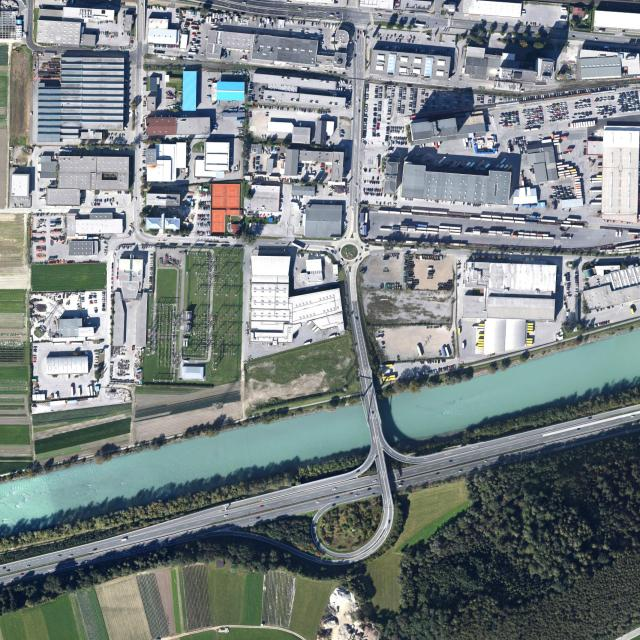large-vehicle: (417, 345, 423, 357), (59, 149, 72, 153), (445, 347, 450, 357), (442, 348, 447, 358), (415, 23, 425, 27), (290, 201, 298, 206), (77, 387, 81, 397), (567, 218, 580, 221), (472, 326, 484, 329), (314, 327, 320, 333), (87, 386, 90, 396), (312, 326, 318, 331), (329, 335, 336, 339), (212, 25, 219, 29), (188, 52, 197, 55), (307, 321, 312, 326), (121, 538, 127, 542), (71, 385, 73, 396), (39, 199, 46, 202), (304, 342, 311, 345), (563, 304, 567, 309), (561, 237, 571, 239), (258, 23, 262, 28), (462, 343, 465, 349), (206, 17, 209, 23), (235, 16, 238, 22), (212, 13, 215, 19), (192, 25, 200, 27), (301, 68, 309, 70), (330, 24, 333, 29), (333, 24, 336, 29), (24, 33, 27, 38), (191, 47, 196, 50), (217, 14, 220, 19), (309, 168, 312, 173), (220, 14, 223, 19), (2, 567, 7, 570), (192, 29, 199, 31), (209, 16, 211, 23), (448, 201, 451, 205), (192, 27, 198, 29), (186, 20, 192, 22), (187, 58, 193, 60), (183, 360, 189, 362), (294, 196, 297, 200), (227, 16, 230, 20), (241, 58, 247, 60), (372, 192, 375, 196), (376, 188, 379, 192), (363, 187, 366, 191), (330, 251, 334, 254), (20, 573, 24, 576), (316, 501, 320, 504), (224, 514, 228, 517), (375, 201, 378, 205), (247, 20, 249, 25), (41, 197, 46, 199), (190, 45, 195, 47), (230, 19, 232, 24), (300, 254, 302, 259), (298, 196, 300, 201), (271, 147, 273, 152), (211, 24, 216, 26), (242, 2, 247, 4), (286, 1, 291, 3), (32, 379, 37, 381), (343, 81, 346, 84), (338, 81, 341, 84), (340, 81, 343, 84), (379, 189, 382, 192), (204, 218, 207, 221), (357, 30, 360, 33), (201, 218, 204, 221), (241, 20, 243, 24), (330, 15, 334, 17), (265, 18, 267, 22), (509, 253, 513, 255), (31, 112, 33, 116), (341, 88, 343, 92), (375, 192, 377, 196), (256, 161, 260, 163), (256, 157, 260, 159), (375, 188, 377, 192), (203, 231, 205, 235), (197, 230, 199, 234), (208, 214, 210, 218), (204, 224, 206, 228), (366, 180, 368, 184), (364, 180, 366, 184), (372, 180, 374, 184), (366, 188, 368, 192), (295, 268, 297, 272), (57, 555, 61, 557), (93, 549, 97, 551), (355, 200, 357, 204), (575, 284, 579, 286), (574, 270, 578, 272), (574, 268, 578, 270), (635, 99, 639, 101), (631, 101, 635, 103), (193, 44, 199, 45), (225, 14, 227, 17), (336, 88, 338, 91), (264, 177, 266, 180), (205, 224, 207, 227), (201, 223, 203, 226), (374, 181, 376, 184), (215, 19, 217, 22), (363, 32, 364, 37), (242, 23, 246, 24), (243, 19, 247, 20), (243, 20, 247, 21), (239, 21, 240, 25), (558, 274, 559, 278), (192, 50, 196, 51), (121, 213, 125, 214), (225, 18, 226, 22), (372, 188, 373, 192), (377, 14, 381, 15), (378, 16, 382, 17), (575, 290, 579, 291), (575, 276, 579, 277), (575, 274, 579, 275), (575, 272, 579, 273), (631, 100, 635, 101), (243, 21, 246, 22), (339, 88, 340, 91), (267, 342, 268, 345)
small-vehicle: (363, 392, 387, 451), (141, 196, 145, 200), (349, 492, 354, 495), (400, 480, 405, 483), (454, 94, 459, 97), (26, 565, 31, 568), (259, 505, 264, 508), (588, 417, 593, 420), (371, 493, 376, 496), (355, 494, 360, 497), (628, 110, 633, 113), (6, 569, 11, 572), (332, 503, 336, 506), (378, 169, 381, 173), (248, 94, 252, 97), (262, 21, 265, 25), (303, 21, 306, 25), (316, 253, 319, 257), (444, 367, 447, 371), (449, 460, 453, 463), (399, 484, 403, 487), (389, 136, 392, 140), (320, 41, 324, 44), (291, 21, 294, 25), (363, 128, 367, 131), (300, 21, 303, 25), (322, 23, 325, 27), (341, 259, 344, 263), (359, 257, 363, 260), (259, 176, 262, 180), (325, 249, 329, 252), (264, 150, 267, 154), (286, 179, 289, 183), (327, 24, 330, 28), (13, 204, 16, 208), (150, 245, 153, 249), (94, 307, 98, 310), (528, 170, 532, 173), (597, 323, 600, 327), (574, 90, 577, 94), (492, 97, 496, 100), (492, 99, 496, 102), (488, 96, 492, 99), (154, 6, 157, 10), (577, 428, 581, 431), (373, 107, 378, 109), (367, 488, 372, 490), (564, 194, 569, 196), (256, 517, 261, 519), (298, 166, 303, 168), (339, 247, 341, 252), (451, 41, 456, 43), (317, 30, 322, 32), (193, 36, 198, 38), (33, 347, 38, 349), (94, 363, 99, 365), (88, 297, 93, 299), (560, 119, 565, 121), (630, 415, 635, 417), (530, 117, 535, 119), (411, 198, 414, 201), (207, 219, 210, 222), (459, 96, 462, 99), (441, 201, 444, 204), (552, 186, 555, 189), (399, 137, 402, 140), (397, 137, 400, 140), (412, 110, 415, 113), (122, 135, 125, 138), (154, 44, 157, 47), (88, 322, 91, 325), (142, 201, 145, 204), (148, 246, 151, 249), (143, 246, 146, 249), (127, 246, 130, 249), (123, 246, 126, 249), (301, 109, 304, 112), (310, 110, 313, 113), (287, 107, 290, 110), (273, 106, 276, 109), (363, 126, 366, 129), (256, 167, 259, 170), (262, 214, 265, 217), (271, 106, 274, 109), (298, 21, 301, 24), (365, 94, 368, 97), (145, 246, 148, 249), (141, 246, 144, 249), (112, 134, 115, 137), (123, 191, 126, 194), (436, 472, 439, 475), (603, 322, 606, 325), (396, 141, 399, 144), (108, 32, 111, 35), (590, 111, 593, 114), (627, 94, 630, 97), (618, 93, 621, 96), (374, 113, 378, 115), (370, 180, 372, 184), (377, 176, 379, 180), (437, 200, 439, 204), (374, 109, 378, 111), (388, 102, 392, 104), (388, 103, 392, 105), (392, 90, 396, 92), (378, 105, 382, 107), (378, 102, 382, 104), (278, 100, 282, 102), (329, 71, 333, 73), (208, 231, 210, 235), (312, 22, 314, 26), (208, 224, 210, 228), (430, 360, 432, 364), (432, 360, 434, 364), (366, 245, 370, 247), (383, 202, 385, 206), (439, 368, 441, 372), (417, 373, 419, 377), (373, 480, 377, 482), (361, 246, 363, 250), (403, 141, 405, 145), (433, 90, 437, 92), (458, 99, 462, 101), (567, 285, 571, 287), (420, 111, 424, 113), (442, 104, 446, 106), (443, 99, 447, 101), (447, 94, 451, 96), (454, 102, 458, 104), (454, 98, 458, 100), (567, 282, 571, 284), (564, 192, 568, 194), (563, 187, 567, 189), (560, 191, 564, 193), (560, 198, 564, 200), (554, 197, 558, 199), (435, 105, 439, 107), (397, 107, 401, 109), (397, 105, 401, 107), (397, 103, 401, 105), (399, 93, 403, 95), (399, 87, 403, 89), (402, 97, 406, 99), (410, 92, 414, 94), (301, 29, 305, 31), (201, 231, 203, 235), (206, 231, 208, 235), (197, 214, 199, 218), (197, 219, 201, 221), (149, 5, 151, 9), (164, 7, 166, 11), (197, 32, 201, 34), (184, 29, 188, 31), (176, 9, 180, 11), (102, 292, 106, 294), (33, 359, 37, 361), (69, 555, 73, 557), (33, 355, 37, 357), (19, 204, 21, 208), (107, 198, 109, 202), (304, 109, 306, 113), (323, 110, 325, 114), (357, 35, 359, 39), (298, 8, 302, 10), (305, 33, 309, 35), (306, 29, 310, 31), (299, 164, 303, 166), (332, 488, 336, 490), (336, 496, 340, 498), (259, 167, 263, 169), (261, 176, 263, 180), (259, 165, 263, 167), (267, 177, 269, 181), (293, 179, 295, 183), (291, 179, 293, 183), (289, 179, 291, 183), (283, 179, 285, 183), (393, 204, 397, 206), (364, 117, 368, 119), (388, 100, 392, 102), (359, 253, 361, 257), (363, 123, 367, 125), (217, 19, 219, 23), (533, 22, 535, 26), (318, 36, 322, 38), (318, 34, 322, 36), (325, 23, 327, 27), (365, 97, 369, 99), (399, 39, 401, 43), (94, 199, 96, 203), (176, 13, 180, 15), (175, 15, 179, 17), (197, 41, 201, 43), (104, 199, 106, 203), (100, 199, 102, 203), (33, 349, 37, 351), (33, 357, 37, 359), (93, 300, 97, 302), (102, 303, 106, 305), (102, 294, 106, 296), (110, 303, 112, 307), (519, 151, 521, 155), (555, 109, 559, 111), (567, 189, 571, 191), (512, 119, 516, 121), (552, 111, 556, 113), (609, 114, 613, 116), (611, 98, 615, 100), (574, 108, 578, 110), (583, 102, 587, 104), (556, 114, 560, 116), (553, 116, 557, 118), (570, 196, 574, 198), (448, 366, 450, 370), (435, 369, 437, 373), (442, 359, 444, 363), (550, 195, 554, 197), (484, 461, 488, 463), (459, 470, 463, 472), (452, 365, 454, 369), (552, 190, 556, 192), (595, 107, 599, 109), (575, 103, 579, 105), (552, 104, 556, 106), (503, 98, 507, 100), (400, 34, 402, 38), (503, 100, 507, 102), (554, 93, 556, 97), (539, 95, 541, 99), (541, 95, 543, 99), (509, 125, 513, 127), (480, 100, 484, 102), (392, 87, 396, 89), (394, 127, 396, 131), (396, 127, 398, 131), (469, 95, 473, 97), (403, 88, 407, 90), (435, 102, 439, 104), (432, 96, 436, 98), (453, 107, 457, 109), (480, 98, 484, 100), (488, 102, 492, 104), (183, 57, 187, 59), (530, 111, 534, 113), (531, 113, 535, 115), (532, 115, 536, 117), (527, 119, 531, 121), (539, 108, 543, 110), (539, 110, 543, 112), (534, 111, 538, 113), (539, 112, 543, 114), (529, 124, 533, 126), (507, 116, 511, 118), (512, 121, 516, 123), (511, 116, 515, 118), (512, 117, 516, 119), (535, 116, 539, 118), (535, 118, 539, 120), (565, 116, 569, 118), (559, 108, 563, 110), (561, 117, 565, 119), (555, 107, 559, 109), (564, 109, 568, 111), (564, 106, 568, 108), (536, 123, 540, 125), (531, 120, 535, 122), (535, 120, 539, 122), (540, 119, 544, 121), (540, 121, 544, 123), (556, 103, 560, 105), (531, 96, 533, 100), (488, 100, 492, 102), (523, 136, 525, 140), (524, 140, 526, 144), (560, 92, 562, 96), (500, 121, 504, 123), (499, 117, 503, 119), (499, 122, 503, 124), (505, 125, 509, 127), (508, 123, 512, 125), (610, 86, 612, 90), (577, 90, 579, 94), (624, 111, 628, 113), (617, 105, 621, 107), (619, 103, 623, 105), (575, 291, 579, 293), (636, 104, 640, 106), (636, 106, 640, 108), (629, 107, 633, 109), (575, 282, 579, 284), (158, 6, 160, 10), (161, 6, 163, 10), (575, 279, 579, 281), (161, 44, 163, 48), (162, 44, 164, 48), (166, 44, 168, 48), (111, 32, 113, 36), (575, 277, 579, 279), (607, 97, 611, 99), (602, 99, 606, 101), (606, 99, 610, 101), (598, 100, 602, 102), (556, 120, 560, 122), (583, 105, 587, 107), (587, 99, 591, 101), (587, 101, 591, 103), (579, 102, 583, 104), (574, 106, 578, 108), (634, 91, 638, 93), (619, 95, 623, 97), (623, 97, 627, 99), (630, 91, 634, 93), (603, 116, 607, 118), (377, 135, 380, 137), (373, 119, 376, 121), (377, 133, 380, 135), (377, 128, 380, 130), (377, 126, 380, 128), (377, 124, 380, 126), (378, 122, 381, 124), (378, 119, 381, 121), (373, 128, 376, 130), (376, 181, 378, 184), (378, 181, 380, 184), (369, 169, 371, 172), (463, 202, 465, 205), (373, 135, 376, 137), (391, 94, 394, 96), (388, 110, 391, 112), (387, 118, 390, 120), (371, 142, 373, 145), (382, 142, 384, 145), (390, 141, 392, 144), (393, 141, 395, 144), (388, 86, 391, 88), (378, 108, 381, 110), (375, 90, 378, 92), (378, 107, 381, 109), (388, 88, 391, 90), (379, 89, 382, 91), (390, 194, 392, 197), (384, 194, 386, 197), (379, 193, 381, 196), (343, 72, 346, 74), (334, 72, 337, 74), (298, 172, 301, 174), (246, 244, 249, 246), (272, 19, 274, 22), (269, 22, 271, 25), (313, 35, 316, 37), (271, 26, 273, 29), (337, 13, 340, 15), (452, 345, 454, 348), (423, 361, 425, 364), (426, 361, 428, 364), (435, 360, 437, 363), (438, 360, 440, 363), (451, 336, 453, 339), (379, 202, 381, 205), (371, 193, 373, 196), (420, 362, 422, 365), (433, 370, 435, 373), (423, 372, 425, 375), (419, 373, 421, 376), (372, 411, 374, 414), (388, 520, 390, 523), (466, 99, 469, 101), (567, 290, 570, 292), (567, 287, 570, 289), (432, 103, 435, 105), (436, 100, 439, 102), (443, 106, 446, 108), (443, 101, 446, 103), (444, 92, 447, 94), (454, 96, 457, 98), (447, 98, 450, 100), (455, 100, 458, 102), (564, 283, 566, 286), (564, 189, 567, 191), (559, 186, 562, 188), (555, 186, 558, 188), (569, 209, 571, 212), (539, 135, 542, 137), (515, 138, 517, 141), (562, 196, 565, 198), (556, 190, 559, 192), (554, 195, 557, 197), (550, 197, 553, 199), (553, 199, 556, 201), (432, 98, 435, 100), (405, 137, 407, 140), (399, 100, 402, 102), (398, 102, 401, 104), (399, 95, 402, 97), (400, 91, 403, 93), (401, 113, 404, 115), (387, 129, 390, 131), (425, 99, 428, 101), (401, 137, 403, 140), (393, 137, 395, 140), (385, 140, 388, 142), (396, 130, 398, 133), (387, 130, 390, 132), (402, 130, 404, 133), (400, 127, 402, 130), (392, 127, 394, 130), (391, 127, 393, 130), (401, 111, 404, 113), (414, 98, 417, 100), (421, 100, 424, 102), (431, 105, 434, 107), (411, 89, 414, 91), (410, 94, 413, 96), (410, 96, 413, 98), (410, 98, 413, 100), (414, 100, 417, 102), (413, 105, 416, 107), (410, 103, 413, 105), (409, 105, 412, 107), (409, 106, 412, 108), (412, 112, 415, 114), (409, 110, 412, 112), (292, 33, 295, 35), (201, 214, 203, 217), (199, 231, 201, 234), (199, 214, 201, 217), (206, 215, 208, 218), (202, 206, 204, 209), (206, 207, 208, 210), (197, 223, 199, 226), (128, 233, 130, 236), (45, 189, 47, 192), (204, 201, 206, 204), (127, 33, 129, 36), (107, 31, 109, 34), (144, 103, 147, 105), (111, 133, 113, 136), (104, 250, 107, 252), (104, 243, 107, 245), (151, 6, 153, 9), (193, 41, 196, 43), (192, 34, 195, 36), (168, 45, 170, 48), (172, 45, 174, 48), (178, 46, 180, 49), (143, 105, 146, 107), (40, 188, 42, 191), (102, 306, 105, 308), (81, 299, 84, 301), (112, 266, 114, 269), (90, 302, 93, 304), (33, 361, 36, 363), (94, 302, 97, 304), (95, 311, 98, 313), (93, 326, 96, 328), (149, 290, 152, 292), (110, 203, 112, 206), (118, 191, 120, 194), (129, 190, 131, 193), (135, 198, 137, 201), (150, 278, 153, 280), (149, 276, 152, 278), (150, 271, 153, 273), (150, 258, 153, 260), (118, 247, 120, 250), (121, 246, 123, 249), (114, 253, 116, 256), (309, 110, 311, 113), (298, 108, 300, 111), (307, 109, 309, 112), (313, 110, 315, 113), (318, 110, 320, 113), (325, 111, 327, 114), (256, 105, 258, 108), (254, 105, 256, 108), (258, 105, 260, 108), (279, 107, 281, 110), (260, 105, 262, 108), (267, 106, 269, 109), (277, 106, 279, 109), (363, 137, 366, 139), (364, 132, 367, 134), (288, 20, 290, 23), (355, 41, 357, 44), (325, 47, 327, 50), (315, 23, 317, 26), (349, 55, 352, 57), (354, 55, 356, 58), (250, 85, 253, 87), (250, 83, 253, 85), (255, 100, 258, 102), (251, 100, 254, 102), (259, 89, 261, 92), (262, 88, 265, 90), (364, 120, 367, 122), (264, 135, 266, 138), (355, 318, 357, 321), (268, 343, 270, 346), (271, 343, 273, 346), (262, 177, 264, 180), (253, 166, 255, 169), (253, 159, 255, 162), (297, 179, 299, 182), (295, 179, 297, 182), (323, 185, 325, 188), (368, 181, 370, 184), (367, 192, 369, 195), (368, 188, 370, 191), (363, 191, 365, 194), (356, 184, 358, 187), (267, 215, 269, 218), (519, 137, 521, 140), (351, 313, 353, 316), (394, 130, 396, 133), (392, 130, 394, 133), (375, 86, 378, 88), (380, 37, 382, 40), (387, 97, 390, 99), (379, 97, 382, 99), (364, 110, 367, 112), (366, 89, 369, 91), (366, 87, 369, 89), (112, 199, 114, 202), (150, 267, 153, 269), (96, 203, 98, 206), (111, 274, 113, 277), (111, 277, 113, 280), (94, 203, 96, 206), (98, 203, 100, 206), (130, 43, 133, 45), (106, 21, 108, 24), (114, 135, 116, 138), (111, 286, 113, 289), (82, 308, 85, 310), (90, 300, 93, 302), (102, 301, 105, 303), (407, 40, 409, 43), (198, 38, 201, 40), (523, 151, 525, 154), (512, 98, 514, 101), (508, 98, 510, 101), (521, 151, 523, 154), (525, 151, 527, 154), (567, 187, 570, 189), (611, 96, 614, 98), (578, 113, 581, 115), (586, 116, 589, 118), (553, 120, 556, 122), (552, 113, 555, 115), (569, 192, 572, 194), (594, 325, 597, 327), (442, 368, 444, 371), (441, 368, 443, 371), (450, 366, 452, 369), (444, 359, 446, 362), (608, 321, 610, 324), (557, 198, 560, 200), (604, 113, 607, 115), (409, 40, 411, 43), (633, 110, 636, 112), (620, 99, 623, 101), (620, 101, 623, 103), (582, 114, 585, 116), (535, 109, 538, 111), (598, 88, 600, 91), (573, 91, 575, 94), (601, 113, 604, 115), (412, 40, 414, 43), (413, 36, 415, 39), (499, 100, 502, 102), (510, 98, 512, 101), (516, 98, 518, 101), (535, 96, 537, 99), (537, 96, 539, 99), (549, 94, 551, 97), (508, 118, 511, 120), (403, 90, 406, 92), (403, 91, 406, 93), (403, 93, 406, 95), (426, 94, 429, 96), (425, 96, 428, 98), (447, 101, 450, 103), (447, 103, 450, 105), (447, 104, 450, 106), (447, 106, 450, 108), (477, 98, 480, 100), (521, 137, 523, 140), (531, 109, 534, 111), (528, 115, 531, 117), (512, 112, 515, 114), (512, 114, 515, 116), (516, 115, 519, 117), (516, 117, 519, 119), (523, 110, 526, 112), (527, 110, 530, 112), (526, 112, 529, 114), (561, 112, 564, 114), (560, 103, 563, 105), (561, 110, 564, 112), (562, 114, 565, 116), (563, 115, 566, 117), (558, 116, 561, 118), (558, 112, 561, 114), (565, 111, 568, 113), (564, 108, 567, 110), (564, 104, 567, 106), (549, 106, 552, 108), (548, 108, 551, 110), (532, 122, 535, 124), (508, 112, 511, 114), (529, 97, 531, 100), (514, 98, 516, 101), (520, 98, 522, 101), (523, 98, 525, 101), (527, 97, 529, 100), (533, 96, 535, 99), (545, 95, 547, 98), (547, 94, 549, 97), (556, 93, 558, 96), (558, 93, 560, 96), (492, 101, 495, 103), (522, 144, 524, 147), (516, 141, 518, 144), (519, 144, 521, 147), (520, 144, 522, 147), (525, 148, 527, 151), (477, 99, 480, 101), (478, 96, 481, 98), (480, 103, 483, 105), (569, 91, 571, 94), (502, 126, 505, 128), (516, 122, 519, 124), (505, 123, 508, 125), (501, 113, 504, 115), (619, 85, 621, 88), (615, 86, 617, 89), (608, 87, 610, 90), (606, 87, 608, 90), (600, 88, 602, 91), (581, 90, 583, 93), (556, 105, 559, 107), (174, 45, 176, 48), (622, 108, 625, 110), (624, 102, 627, 104), (540, 185, 543, 187), (624, 104, 627, 106), (628, 100, 631, 102), (624, 100, 627, 102), (629, 105, 632, 107), (576, 286, 579, 288), (103, 21, 105, 24), (101, 21, 103, 24), (99, 21, 101, 24), (112, 36, 114, 39), (112, 32, 114, 35), (102, 32, 104, 35), (100, 31, 102, 34), (600, 323, 602, 326), (572, 118, 575, 120), (600, 98, 603, 100), (582, 112, 585, 114), (599, 106, 602, 108), (603, 106, 606, 108), (586, 112, 589, 114), (555, 118, 558, 120), (549, 120, 552, 122), (585, 107, 588, 109), (609, 107, 612, 109), (586, 114, 589, 116), (619, 97, 622, 99), (631, 94, 634, 96), (635, 93, 638, 95), (598, 110, 601, 112), (632, 96, 635, 98), (636, 95, 639, 97), (622, 92, 625, 94), (627, 92, 630, 94), (584, 146, 587, 148), (613, 112, 616, 114), (613, 110, 616, 112), (609, 111, 612, 113), (609, 109, 612, 111), (605, 111, 608, 113), (601, 111, 604, 113), (602, 109, 605, 111), (183, 33, 188, 34), (175, 12, 180, 13), (33, 352, 38, 353), (578, 101, 583, 102), (538, 107, 543, 108), (535, 122, 540, 123), (377, 116, 381, 117), (467, 203, 469, 205), (405, 198, 407, 200), (373, 115, 377, 116), (387, 114, 391, 115), (392, 89, 396, 90), (373, 105, 377, 106), (378, 104, 382, 105), (380, 87, 382, 89), (310, 164, 312, 166), (312, 166, 316, 167), (289, 30, 293, 31), (452, 341, 454, 343), (390, 202, 391, 206), (399, 141, 400, 145), (560, 189, 562, 191), (564, 191, 568, 192), (559, 188, 563, 189), (566, 196, 570, 197), (556, 192, 560, 193), (398, 99, 402, 100), (397, 111, 401, 112), (386, 137, 388, 139), (398, 127, 400, 129), (415, 91, 417, 93), (415, 89, 417, 91), (421, 93, 425, 94), (420, 108, 424, 109), (410, 91, 414, 92), (412, 107, 416, 108), (199, 224, 201, 226), (199, 207, 201, 209), (200, 202, 202, 204), (202, 202, 204, 204), (129, 34, 131, 36), (105, 31, 106, 35), (121, 135, 123, 137), (102, 300, 106, 301), (102, 296, 106, 297), (112, 263, 114, 265), (102, 309, 106, 310), (95, 355, 99, 356), (95, 358, 99, 359), (111, 307, 112, 311), (117, 267, 118, 271), (116, 203, 118, 205), (150, 288, 152, 290), (148, 284, 152, 285), (149, 275, 153, 276), (150, 262, 154, 263), (126, 246, 128, 248), (248, 116, 252, 117), (265, 115, 269, 116), (318, 33, 322, 34), (365, 112, 367, 114), (312, 172, 316, 173), (365, 192, 367, 194), (517, 137, 518, 141), (365, 86, 369, 87), (366, 84, 370, 85), (531, 22, 532, 26), (535, 22, 536, 26), (149, 270, 153, 271), (150, 255, 154, 256), (111, 282, 113, 284), (130, 41, 134, 42), (98, 200, 100, 202), (80, 298, 84, 299), (93, 297, 97, 298), (89, 295, 93, 296), (538, 139, 542, 140), (583, 116, 585, 118), (523, 116, 527, 117), (398, 131, 400, 133), (390, 131, 392, 133), (480, 102, 484, 103), (505, 118, 507, 120), (522, 140, 523, 144), (552, 118, 554, 120), (531, 119, 535, 120), (539, 114, 543, 115), (536, 114, 538, 116), (522, 113, 526, 114), (539, 116, 543, 117), (565, 119, 569, 120), (559, 107, 563, 108), (556, 111, 560, 112), (516, 111, 518, 113), (563, 92, 564, 96), (585, 89, 586, 93), (626, 109, 628, 111), (633, 103, 635, 105), (628, 104, 632, 105), (637, 103, 639, 105), (575, 281, 579, 282), (176, 18, 180, 19), (108, 21, 110, 23), (141, 3, 142, 7), (165, 44, 166, 48), (602, 323, 604, 325), (627, 99, 631, 100), (595, 99, 599, 100), (603, 98, 607, 99), (612, 107, 616, 108), (587, 105, 591, 106), (549, 117, 553, 118), (579, 106, 583, 107), (583, 100, 587, 101), (627, 97, 631, 98), (606, 109, 608, 111), (597, 113, 601, 114), (373, 125, 376, 126), (373, 124, 376, 125), (373, 122, 376, 123), (374, 118, 377, 119), (373, 127, 376, 128), (373, 126, 376, 127), (408, 198, 409, 201), (410, 198, 411, 201), (373, 134, 376, 135), (388, 107, 391, 108), (388, 112, 391, 113), (387, 123, 390, 124), (395, 141, 396, 144), (375, 97, 378, 98), (375, 94, 378, 95), (375, 92, 378, 93), (378, 110, 381, 111), (379, 94, 382, 95), (324, 71, 327, 72), (377, 193, 378, 196), (388, 203, 389, 206), (406, 142, 407, 145), (444, 96, 447, 97), (443, 103, 446, 104), (454, 104, 457, 105), (558, 197, 561, 198), (557, 193, 560, 194), (561, 193, 564, 194), (558, 195, 561, 196), (552, 189, 555, 190), (397, 110, 400, 111), (397, 109, 400, 110), (387, 128, 390, 129), (400, 90, 403, 91), (403, 127, 404, 130), (402, 106, 405, 107), (422, 90, 425, 91), (414, 97, 417, 98), (414, 95, 417, 96), (414, 93, 417, 94), (422, 92, 425, 93), (420, 106, 423, 107), (411, 88, 414, 89), (413, 104, 416, 105), (321, 44, 324, 45), (204, 215, 205, 218), (141, 190, 142, 193), (207, 202, 208, 205), (144, 102, 147, 103), (99, 32, 100, 35), (197, 47, 200, 48), (104, 253, 107, 254), (193, 39, 196, 40), (176, 11, 179, 12), (137, 113, 138, 116), (94, 295, 97, 296), (102, 305, 105, 306), (102, 298, 105, 299), (93, 293, 96, 294), (102, 311, 105, 312), (81, 294, 84, 295), (112, 270, 113, 273), (143, 150, 146, 151), (97, 199, 98, 202), (110, 199, 111, 202), (117, 272, 118, 275), (126, 191, 127, 194), (128, 191, 129, 194), (150, 266, 153, 267), (359, 100, 360, 103), (359, 110, 360, 113), (282, 107, 283, 110), (262, 135, 263, 138), (249, 115, 252, 116), (249, 113, 252, 114), (266, 113, 269, 114), (263, 106, 264, 109), (270, 106, 271, 109), (363, 136, 366, 137), (337, 18, 340, 19), (286, 20, 287, 23), (250, 87, 253, 88), (250, 89, 253, 90), (261, 91, 264, 92), (282, 343, 283, 346), (258, 176, 259, 179), (259, 169, 262, 170), (259, 170, 262, 171), (335, 162, 338, 163), (518, 137, 519, 140), (373, 177, 374, 180), (364, 119, 367, 120), (388, 109, 391, 110), (379, 96, 382, 97), (375, 89, 378, 90), (91, 203, 92, 206), (150, 264, 153, 265), (111, 290, 112, 293), (111, 295, 112, 298), (111, 299, 112, 302), (95, 360, 98, 361), (86, 317, 89, 318), (81, 292, 84, 293), (396, 39, 397, 42), (525, 144, 526, 147), (568, 191, 571, 192), (570, 194, 573, 195), (595, 101, 598, 102), (560, 105, 563, 106), (546, 107, 549, 108), (553, 194, 556, 195), (447, 367, 448, 370), (606, 321, 607, 324), (609, 113, 612, 114), (587, 89, 588, 92), (578, 108, 581, 109), (553, 106, 556, 107), (396, 137, 397, 140), (386, 134, 389, 135), (520, 141, 521, 144), (447, 100, 450, 101), (177, 45, 178, 48), (526, 125, 529, 126), (516, 114, 519, 115), (505, 115, 508, 116), (526, 114, 529, 115), (516, 121, 519, 122), (564, 103, 567, 104), (552, 108, 555, 109), (547, 110, 550, 111), (533, 124, 536, 125), (525, 97, 526, 100), (492, 103, 495, 104), (543, 95, 544, 98), (505, 113, 508, 114), (518, 141, 519, 144), (519, 148, 520, 151), (521, 148, 522, 151), (513, 123, 516, 124), (571, 91, 572, 94), (517, 124, 520, 125), (508, 120, 511, 121), (504, 117, 507, 118), (612, 87, 613, 90), (603, 88, 604, 91), (597, 88, 598, 91), (595, 88, 596, 91), (591, 89, 592, 92), (589, 89, 590, 92), (583, 90, 584, 93), (551, 110, 554, 111), (625, 106, 628, 107), (625, 107, 628, 108), (619, 110, 622, 111), (631, 222, 632, 225), (595, 39, 598, 40), (633, 105, 636, 106), (637, 108, 640, 109), (637, 110, 640, 111), (633, 107, 636, 108), (633, 108, 636, 109), (633, 109, 636, 110), (629, 109, 632, 110), (636, 101, 639, 102), (111, 21, 112, 24), (157, 44, 158, 47), (159, 44, 160, 47), (171, 45, 172, 48), (105, 21, 106, 24), (98, 21, 99, 24), (107, 35, 108, 38), (105, 35, 106, 38), (628, 102, 631, 103), (555, 113, 558, 114), (579, 117, 582, 118), (609, 106, 612, 107), (574, 114, 577, 115), (588, 107, 591, 108), (582, 108, 585, 109), (623, 95, 626, 96), (636, 97, 639, 98), (613, 109, 616, 110), (374, 121, 376, 122), (369, 193, 370, 195), (556, 189, 558, 190), (402, 108, 404, 109), (425, 103, 427, 104), (111, 36, 112, 38), (95, 310, 97, 311), (296, 109, 297, 111), (300, 109, 301, 111), (294, 108, 295, 110), (252, 99, 254, 100), (365, 105, 367, 106), (365, 115, 367, 116), (356, 343, 357, 345), (548, 112, 550, 113), (553, 115, 555, 116), (523, 148, 524, 150), (622, 86, 623, 88), (614, 87, 615, 89), (610, 220, 611, 222), (573, 36, 575, 37), (590, 114, 592, 115), (606, 108, 608, 109)
